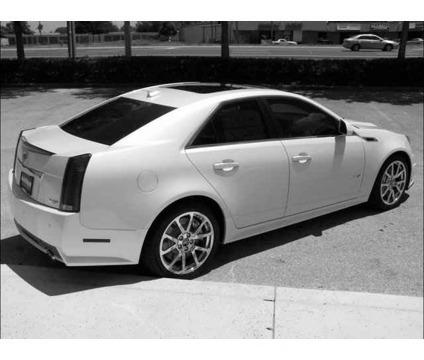car: (7, 78, 421, 282)
